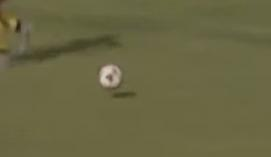ball: (95, 60, 125, 91)
